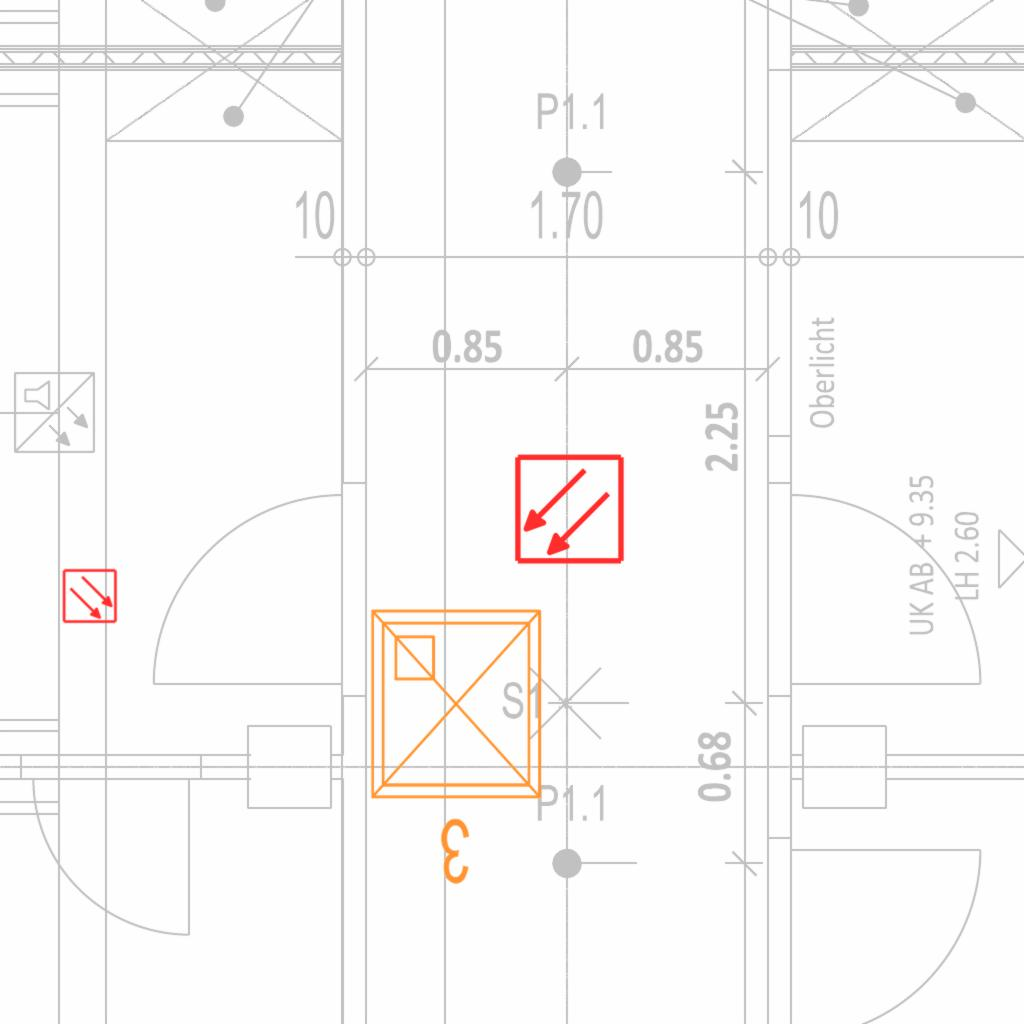Einbaudownlights_LED_Konferenzraeume: (356, 595, 564, 895)
RMO_Rauchmelder_optischer: (513, 453, 626, 566), (62, 568, 118, 624)
